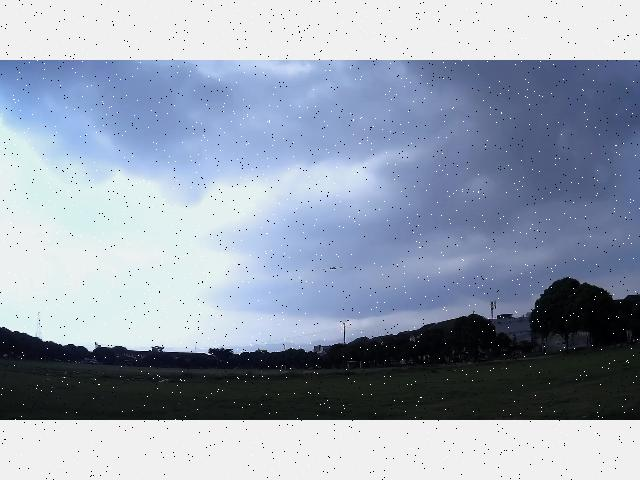Anti-Drone: (322, 266, 342, 269)
